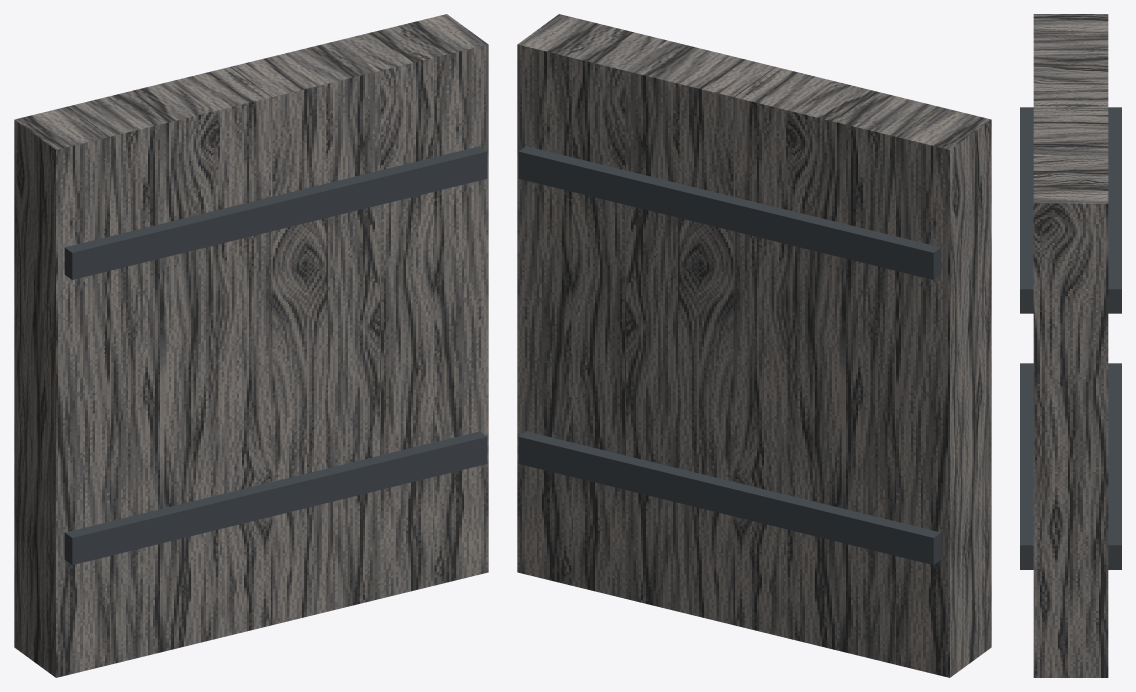
Rendered from door_wood_small.glb.
3 renders of one model, left to right at view 1: azimuth 30°, elevation 25°; view 2: azimuth 150°, elevation 25°; view 3: azimuth 270°, elevation 25°, orthographic. The views are drawn at different scales.
Visible parts, largest first — view 1: Oak_Plank.008, Oak_Plank.015, Oak_Plank.011, Oak_Plank.012, Oak_Plank.010, Oak_Plank.014, Oak_Plank.009, Oak_Plank.013, Continuous_Iron_Strap.005, Continuous_Iron_Strap.004; view 2: Oak_Plank.008, Oak_Plank.015, Oak_Plank.011, Oak_Plank.012, Oak_Plank.010, Oak_Plank.014, Oak_Plank.009, Oak_Plank.013, Continuous_Iron_Strap.007, Continuous_Iron_Strap.006; view 3: Oak_Plank.015, Continuous_Iron_Strap.004, Continuous_Iron_Strap.005, Continuous_Iron_Strap.006, Continuous_Iron_Strap.007, Oak_Plank.012, Oak_Plank.009, Oak_Plank.013, Oak_Plank.008, Oak_Plank.010, Oak_Plank.011, Oak_Plank.014.
Boxes of the visible parts, <box> form: Oak_Plank.008: <box>14,106,109,677</box>; Oak_Plank.015: <box>393,14,488,585</box>; Oak_Plank.011: <box>177,67,272,638</box>; Oak_Plank.012: <box>231,53,326,624</box>; Oak_Plank.010: <box>123,80,218,651</box>; Oak_Plank.014: <box>339,27,434,598</box>; Oak_Plank.009: <box>69,93,164,664</box>; Oak_Plank.013: <box>285,40,380,611</box>; Continuous_Iron_Strap.005: <box>64,146,487,279</box>; Continuous_Iron_Strap.004: <box>64,431,487,564</box>; Oak_Plank.008: <box>896,106,991,677</box>; Oak_Plank.015: <box>517,14,612,585</box>; Oak_Plank.011: <box>733,67,828,638</box>; Oak_Plank.012: <box>679,53,774,624</box>; Oak_Plank.010: <box>787,80,882,651</box>; Oak_Plank.014: <box>571,27,666,598</box>; Oak_Plank.009: <box>841,93,936,664</box>; Oak_Plank.013: <box>625,40,720,611</box>; Continuous_Iron_Strap.007: <box>518,146,941,279</box>; Continuous_Iron_Strap.006: <box>518,431,941,564</box>; Oak_Plank.015: <box>1033,180,1108,677</box>; Continuous_Iron_Strap.004: <box>1020,363,1033,569</box>; Continuous_Iron_Strap.005: <box>1020,107,1033,313</box>; Continuous_Iron_Strap.006: <box>1108,363,1121,569</box>; Continuous_Iron_Strap.007: <box>1108,107,1121,313</box>; Oak_Plank.012: <box>1033,108,1108,132</box>; Oak_Plank.009: <box>1033,37,1108,61</box>; Oak_Plank.013: <box>1033,132,1108,156</box>; Oak_Plank.008: <box>1033,14,1108,37</box>; Oak_Plank.010: <box>1033,61,1108,84</box>; Oak_Plank.011: <box>1033,85,1108,108</box>; Oak_Plank.014: <box>1033,156,1108,179</box>.
Bounding box in the file's own units: 3 × 3.5 × 0.68.
Materials: 2 (1 with a texture image).
